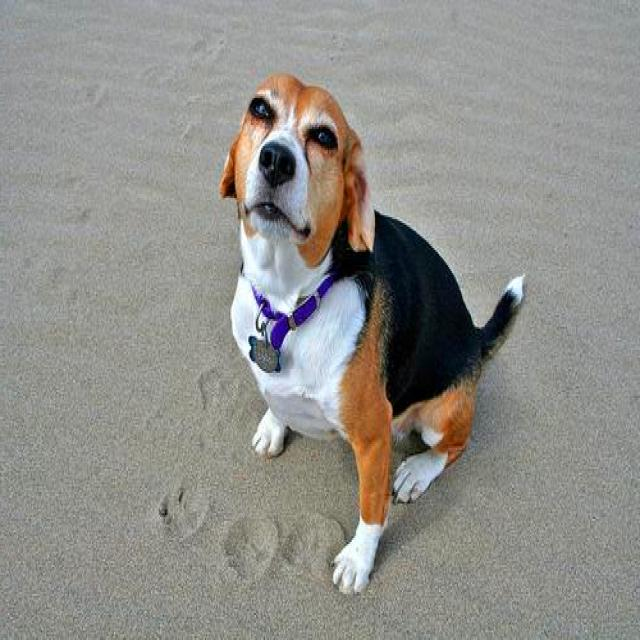beagle: (217, 71, 528, 600)
